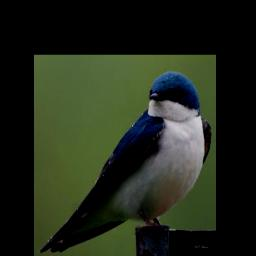Swallow: (38, 70, 212, 255)
